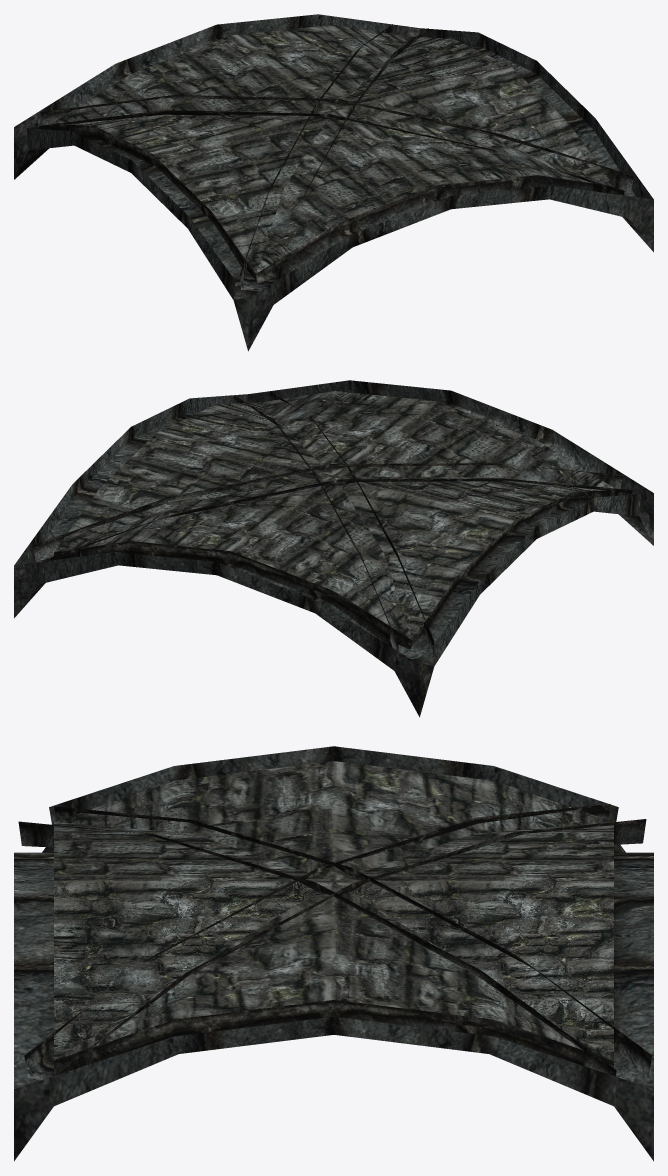
The model's file is corridor02_4way.dae.
The picture shows the model from 3 angles, top to bottom: view 1: azimuth 30°, elevation 25°; view 2: azimuth 150°, elevation 25°; view 3: azimuth 270°, elevation 25°; orthographic projection. The views are drawn at different scales.
Parts seen in each view (by area): view 1: polySurface172, polySurface173; view 2: polySurface172, polySurface173; view 3: polySurface172, polySurface173.
Part boxes in pixels (x1,y1,x2,y2): polySurface172: [51, 25, 613, 273]; polySurface173: [14, 14, 653, 351]; polySurface172: [54, 391, 613, 639]; polySurface173: [14, 380, 653, 717]; polySurface172: [54, 761, 613, 1060]; polySurface173: [14, 746, 653, 1161].
Size of the model in its own units: 4 by 1.04 by 4.
